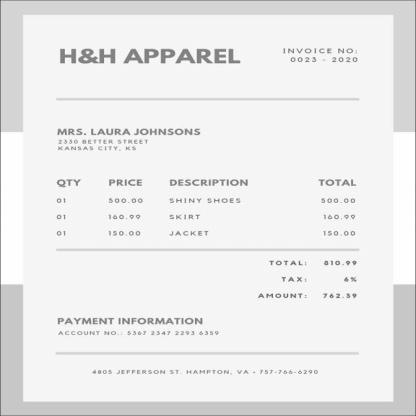Paragraph: (255, 258, 361, 300), (54, 126, 205, 152), (55, 316, 221, 337), (89, 368, 321, 376), (280, 45, 360, 65)
Table: (53, 176, 359, 239)
